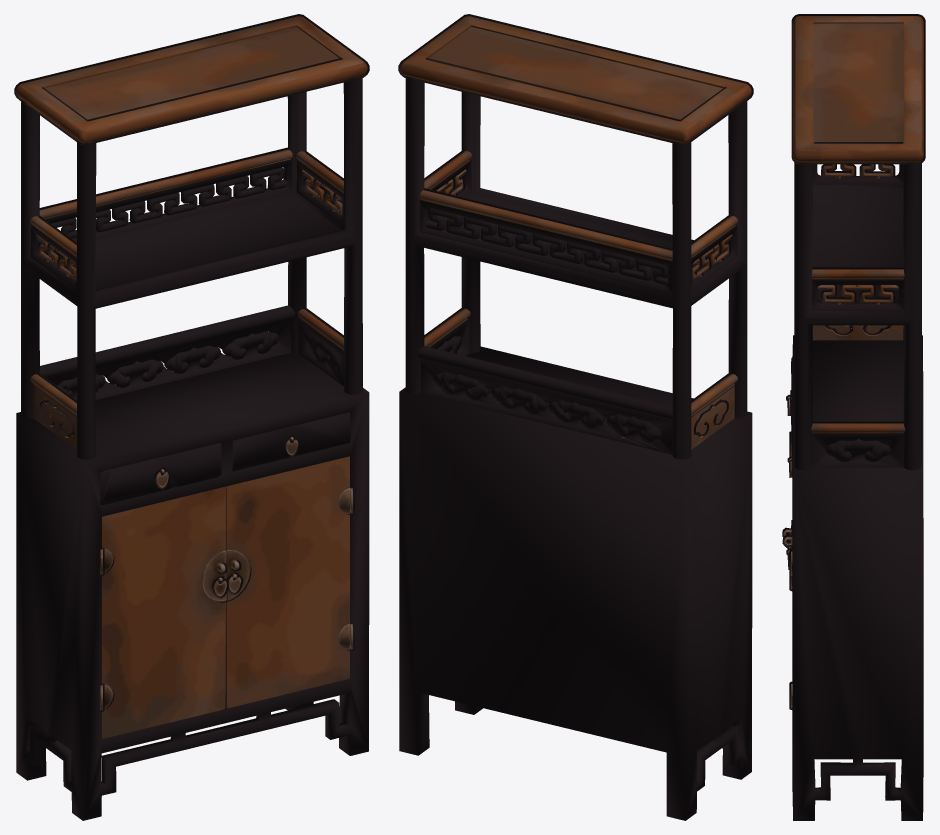
The model's file is SM_Int_ChineseCabinet.fbx.
The picture shows the model from 3 angles, left to right: view 1: azimuth 30°, elevation 25°; view 2: azimuth 150°, elevation 25°; view 3: azimuth 270°, elevation 25°; orthographic projection. The views are drawn at different scales.
Parts seen in each view (by area): view 1: SM_Int_ChineseCabinet; view 2: SM_Int_ChineseCabinet; view 3: SM_Int_ChineseCabinet.
Boxes of the visible parts, bbox=[...] form: SM_Int_ChineseCabinet: bbox=[14, 14, 369, 820]; SM_Int_ChineseCabinet: bbox=[398, 14, 753, 820]; SM_Int_ChineseCabinet: bbox=[782, 14, 925, 820].
Size of what is drawn, in the model's own units: 1.28 by 2.88 by 0.5591.
